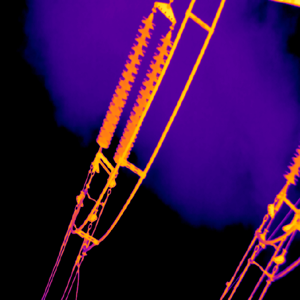insulator: (97, 10, 172, 165)
